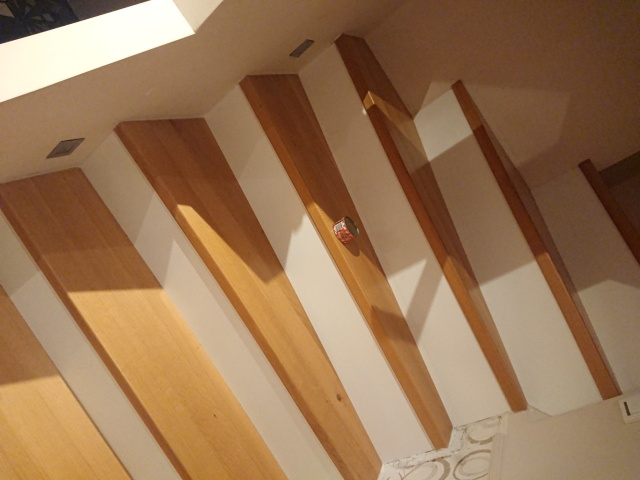Podravka Luncheon Meat 150g: (331, 214, 361, 247)
